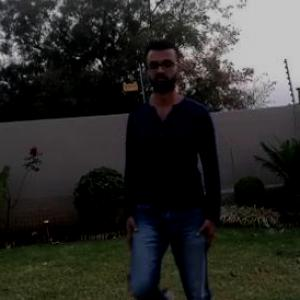follow: (112, 37, 215, 299)
